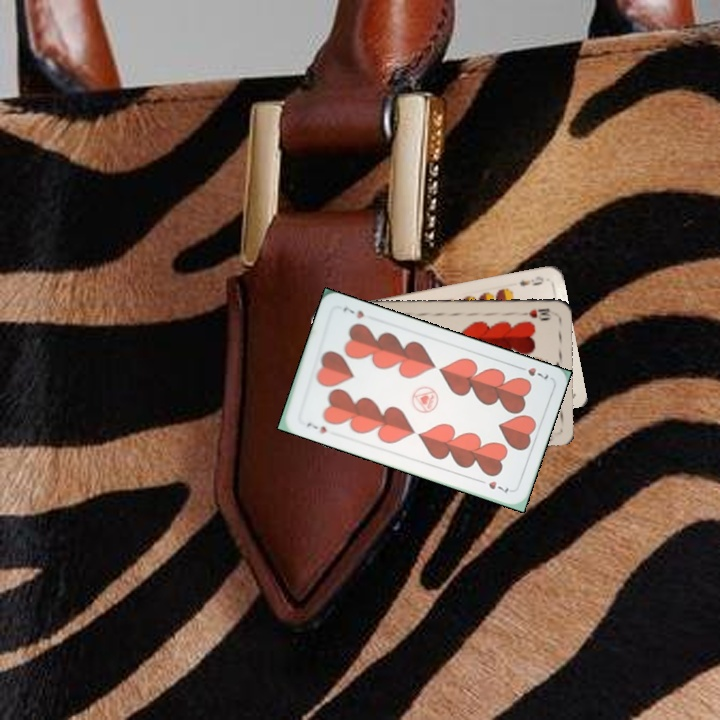E9: (516, 272, 546, 289)
H10: (516, 304, 552, 321)
H7: (513, 362, 551, 384), (302, 418, 329, 436)
